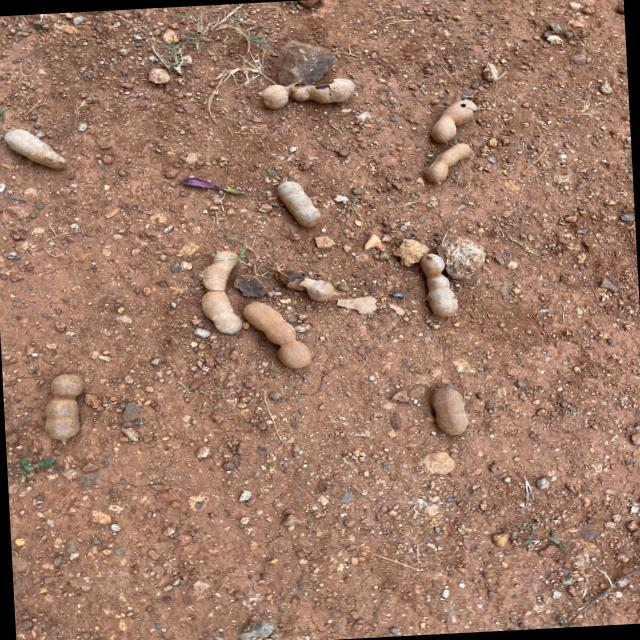tamarind: (242, 298, 312, 370), (199, 250, 244, 334), (258, 77, 356, 109), (0, 124, 68, 170), (42, 372, 84, 443), (422, 252, 461, 319), (278, 180, 323, 229), (428, 98, 478, 142), (432, 384, 470, 436), (423, 142, 472, 182)
